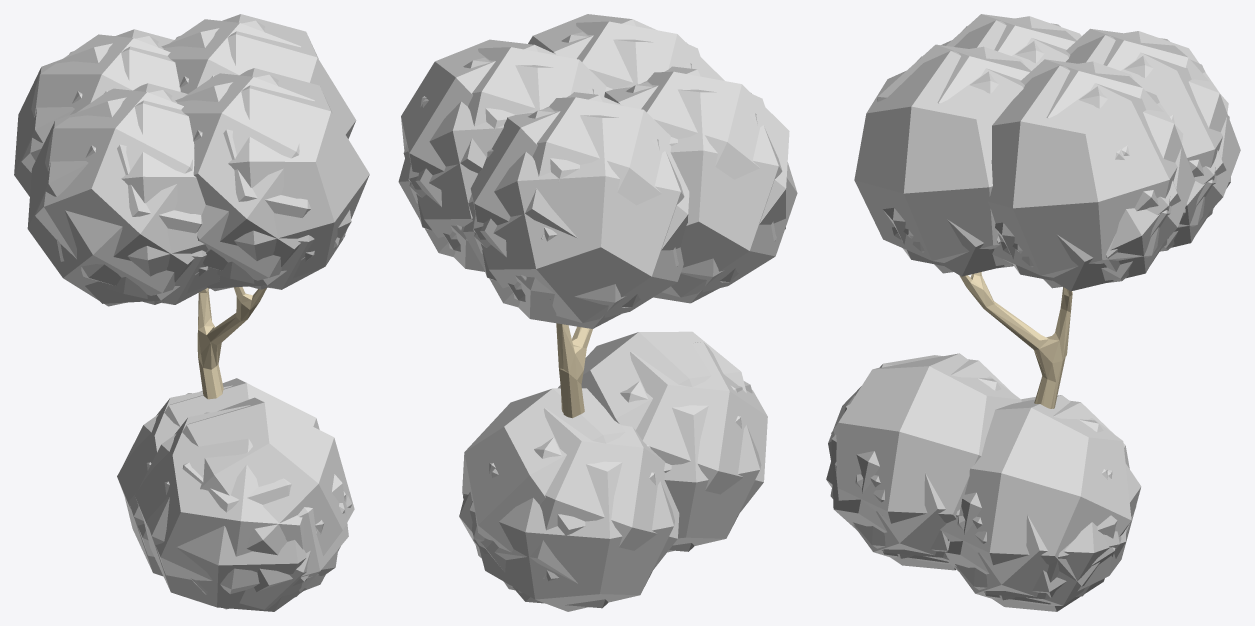
Rendered from newTest.fbx.
3 renders of one model, left to right at view 1: azimuth 30°, elevation 25°; view 2: azimuth 150°, elevation 25°; view 3: azimuth 270°, elevation 25°, orthographic. The views are drawn at different scales.
Parts seen in each view (by area): view 1: p.002, p, p.001, Cube; view 2: p.002, p, p.001, Cube; view 3: p.001, p, p.002, Cube.
Part boxes in pixels (x1,y1,x2,y2): p.002: [14, 29, 220, 306]; p: [117, 378, 354, 611]; p.001: [161, 14, 369, 291]; Cube: [197, 287, 266, 399]; p.002: [463, 66, 797, 328]; p: [459, 331, 767, 611]; p.001: [398, 14, 724, 271]; Cube: [556, 323, 592, 418]; p.001: [854, 44, 1195, 291]; p: [826, 353, 1141, 611]; p.002: [941, 14, 1240, 251]; Cube: [959, 272, 1072, 408].
Size of the model in its own units: 705 by 1118 by 765.
